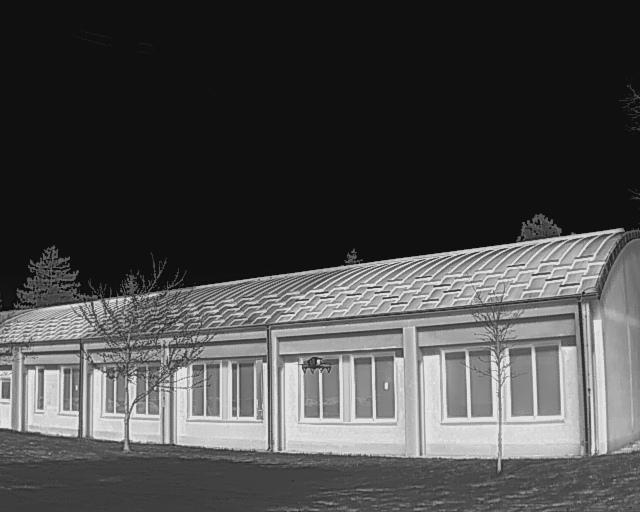drone: (291, 348, 337, 376)
